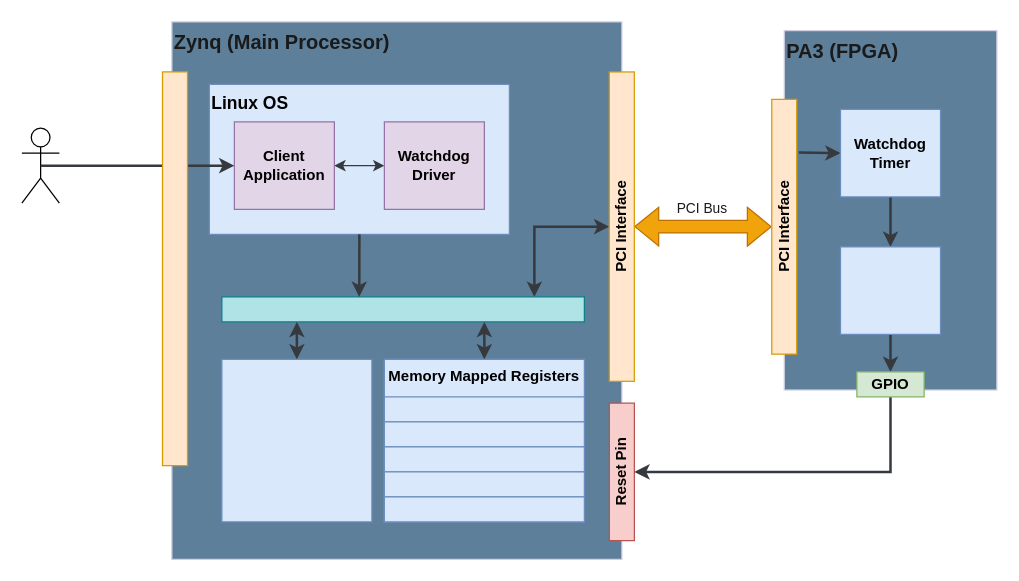
Some shapes in this 1019 by 581 pixel diagram are drawn without their labels. Here are the shapes that lost their labels. From the top down, the centre of each, then its label:
(x=40, y=165): Input
(x=174, y=268): External Interface
(x=402, y=309): Memory Controller
(x=889, y=290): Power Controller
(x=296, y=440): DDR Memory
